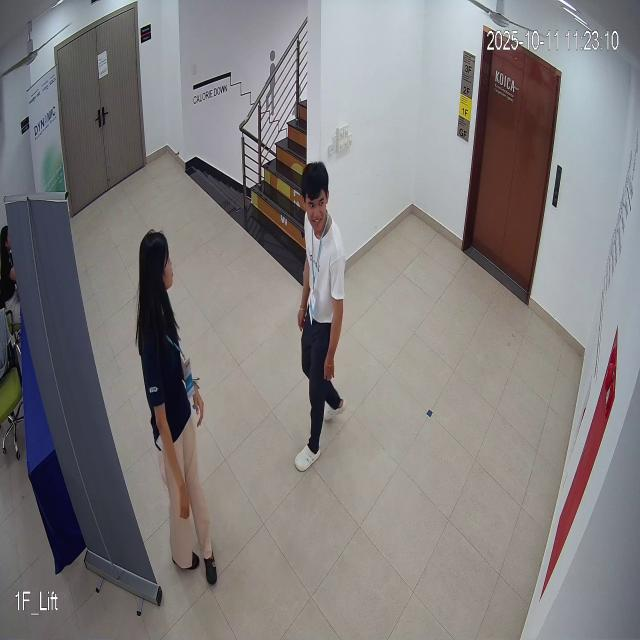face: (297, 153, 334, 236)
